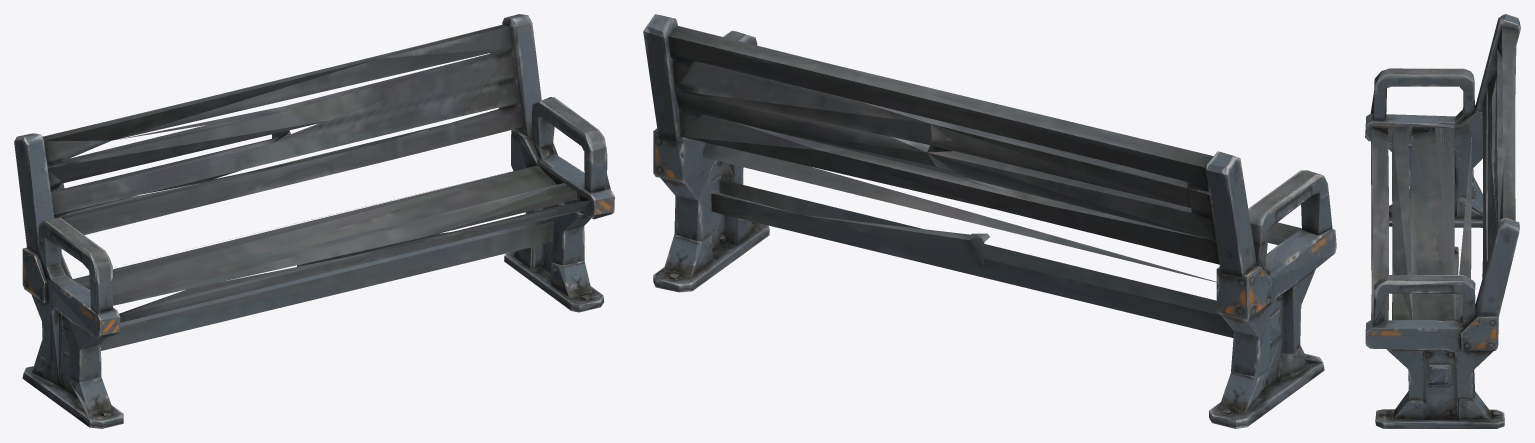
File: bench.glb
3 renders of one model, left to right at view 1: azimuth 30°, elevation 25°; view 2: azimuth 150°, elevation 25°; view 3: azimuth 270°, elevation 25°, orthographic. The views are drawn at different scales.
Parts seen in each view (by area): view 1: Mesh_0; view 2: Mesh_0; view 3: Mesh_0.
Part boxes in pixels (<box>): Mesh_0: <box>14,14,614,428</box>; Mesh_0: <box>643,14,1336,428</box>; Mesh_0: <box>1365,14,1520,428</box>.
Size of the model in its own units: 2.4 by 1.05 by 0.7319.
Materials: 1 (1 with a texture image).
